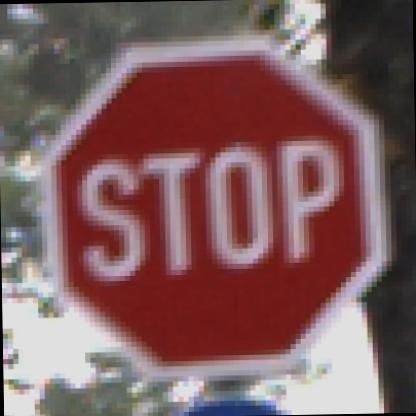stop: (28, 26, 402, 378)
